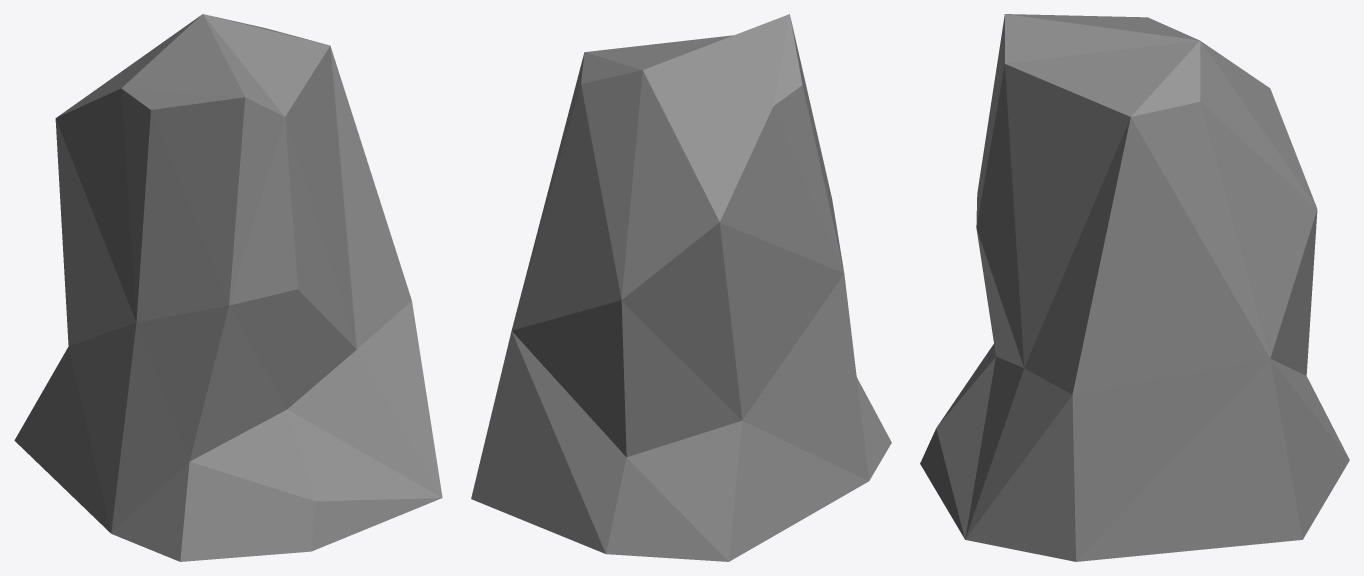
File: Stone_B_14.FBX
The picture shows the model from 3 angles, left to right: view 1: azimuth 30°, elevation 25°; view 2: azimuth 150°, elevation 25°; view 3: azimuth 270°, elevation 25°; orthographic projection. The views are drawn at different scales.
Parts seen in each view (by area): view 1: Stone_B_14; view 2: Stone_B_14; view 3: Stone_B_14.
Part boxes in pixels (x1,y1,x2,y2): Stone_B_14: (14,14,442,561); Stone_B_14: (471,14,891,561); Stone_B_14: (920,14,1349,561).
Bounding box in the file's own units: 2.35 × 2.93 × 2.61.
